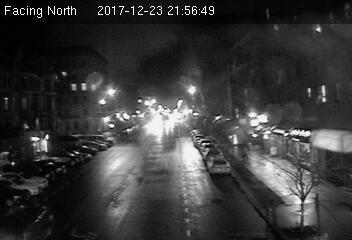car: (207, 157, 230, 174)
